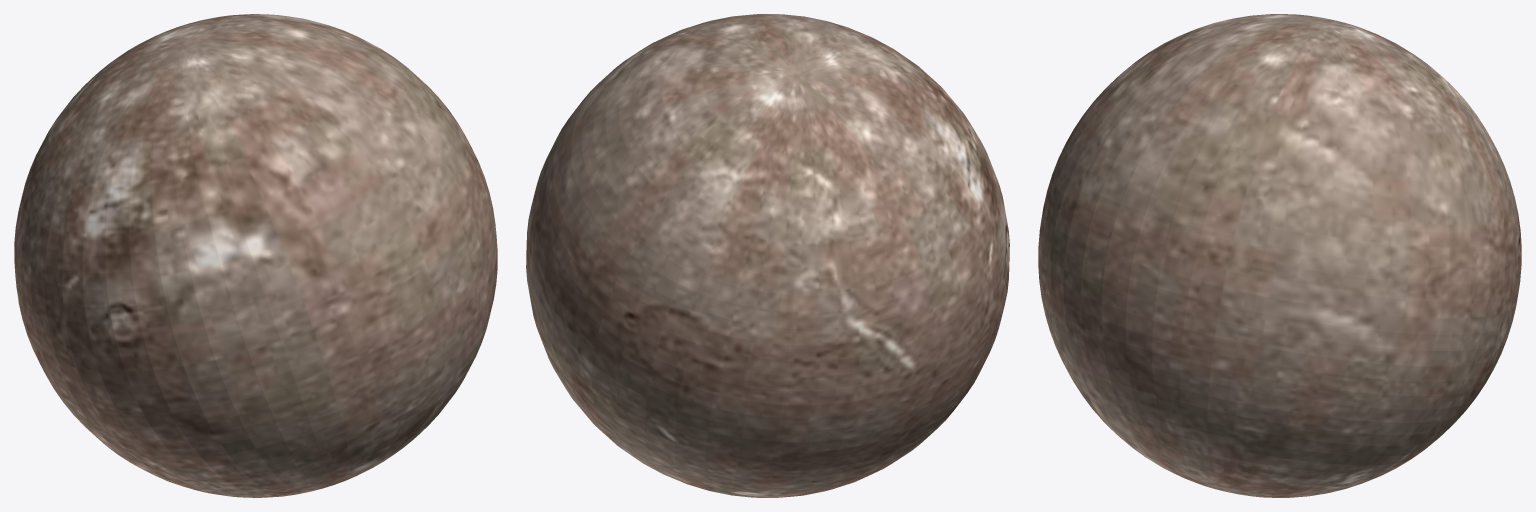
Rendered from titania.obj.
3 views of the same model, side by side, from view 1: azimuth 30°, elevation 25°; view 2: azimuth 150°, elevation 25°; view 3: azimuth 270°, elevation 25° (orthographic).
Parts seen in each view (by area): view 1: Plane; view 2: Plane; view 3: Plane.
Part boxes in pixels (bbox=[...]): Plane: bbox=[14, 14, 497, 497]; Plane: bbox=[526, 14, 1009, 497]; Plane: bbox=[1038, 14, 1521, 497].
Bounding box in the file's own units: 2.61 × 2.61 × 2.61.
1 material, 1 textured.
